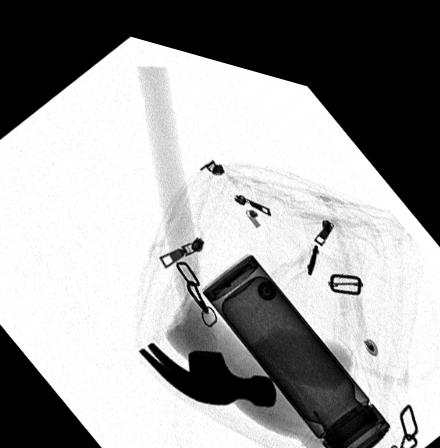Hammer: (135, 55, 278, 393)
